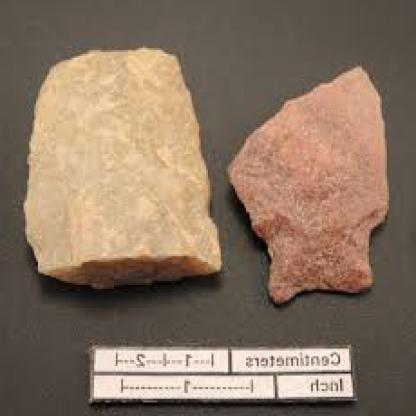Metamorphic_Quartize: (13, 31, 222, 289), (230, 46, 398, 324)
